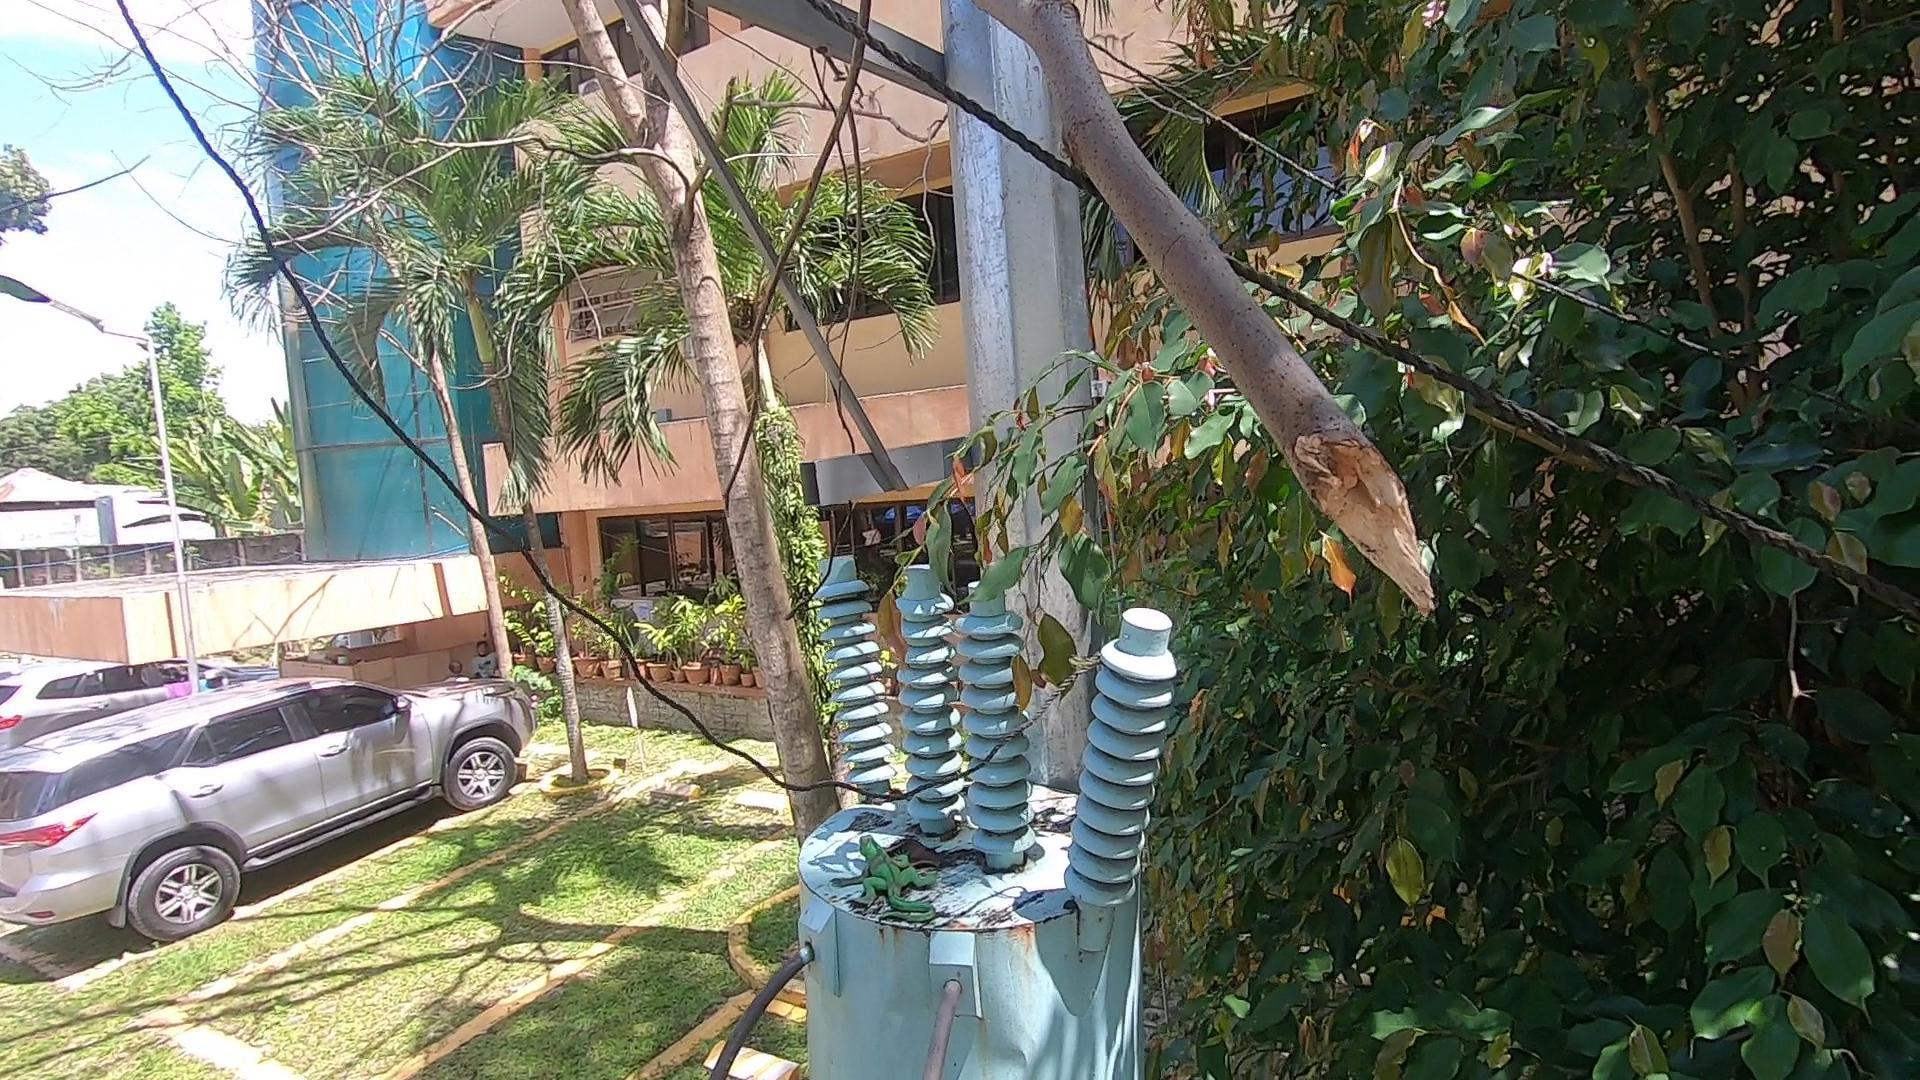branch with leaves: (861, 396, 1158, 737)
leaf: (897, 832, 1017, 878), (1029, 802, 1079, 848), (877, 782, 909, 804)
tree branch: (951, 1, 1472, 678)
